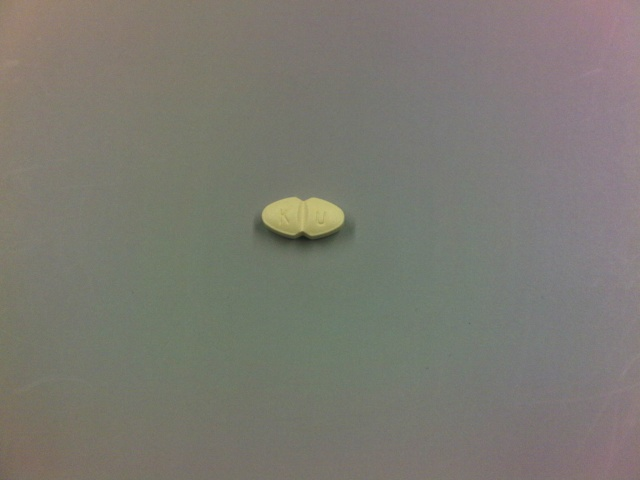K: (277, 205, 294, 228)
U: (314, 208, 331, 228)
|: (297, 197, 311, 237)
